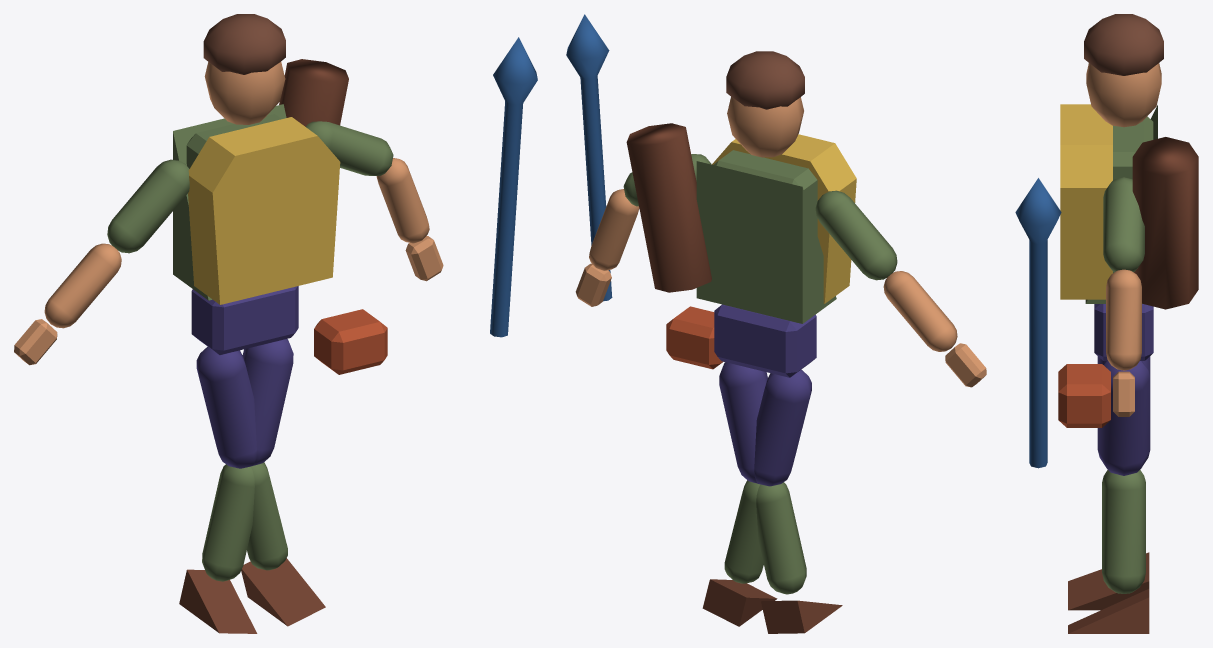
Rendered from adventurer.rustic.glb.
The picture shows the model from 3 angles, left to right: view 1: azimuth 30°, elevation 25°; view 2: azimuth 150°, elevation 25°; view 3: azimuth 270°, elevation 25°; orthographic projection. The views are drawn at different scales.
Parts seen in each view (by area): view 1: accessory.body, accessory.main-hand, pelvis, thigh.left, shin.right, upper-arm.left, hair, thigh.right, accessory.waist, accessory.back, head, forearm.left (+9 smaller); view 2: tunic, accessory.back, pelvis, thigh.left, accessory.body, accessory.main-hand, shin.right, upper-arm.left, hair, thigh.right, head, forearm.left (+8 smaller); view 3: accessory.back, accessory.body, accessory.main-hand, shin.left, hair, thigh.right, head, forearm.right, upper-arm.right, accessory.waist, foot.left, foot.right (+3 smaller).
Part boxes in pixels (x1,y1,x2,y2): accessory.body: (188, 117, 340, 304); accessory.main-hand: (490, 37, 537, 337); pelvis: (191, 286, 298, 354); thigh.left: (196, 346, 256, 468); shin.right: (202, 464, 254, 581); upper-arm.left: (107, 159, 189, 253); hair: (203, 14, 285, 74); thigh.right: (242, 339, 293, 465); accessory.waist: (314, 309, 387, 374); accessory.back: (279, 59, 348, 126); head: (204, 61, 285, 124); forearm.left: (44, 243, 121, 328); tunic: (696, 161, 836, 323); accessory.back: (626, 123, 711, 292); pelvis: (714, 304, 816, 377); thigh.left: (754, 369, 811, 486); accessory.body: (712, 134, 856, 303); accessory.main-hand: (566, 14, 612, 301); shin.right: (756, 482, 806, 594); upper-arm.left: (815, 190, 897, 280); hair: (726, 51, 804, 109); thigh.right: (719, 362, 767, 483); head: (727, 97, 803, 157); forearm.left: (883, 271, 957, 351); accessory.back: (1132, 137, 1198, 309); accessory.body: (1060, 104, 1112, 299); accessory.main-hand: (1015, 178, 1061, 468); shin.left: (1102, 471, 1145, 593); hair: (1084, 14, 1163, 75); thigh.right: (1097, 361, 1150, 475); head: (1086, 63, 1161, 127); forearm.right: (1106, 269, 1141, 370); upper-arm.right: (1103, 177, 1144, 272); accessory.waist: (1058, 364, 1110, 427); foot.left: (1068, 589, 1149, 633); foot.right: (1068, 552, 1149, 610).
Bounding box in the file's own units: 2.54 × 3.01 × 0.8353.
